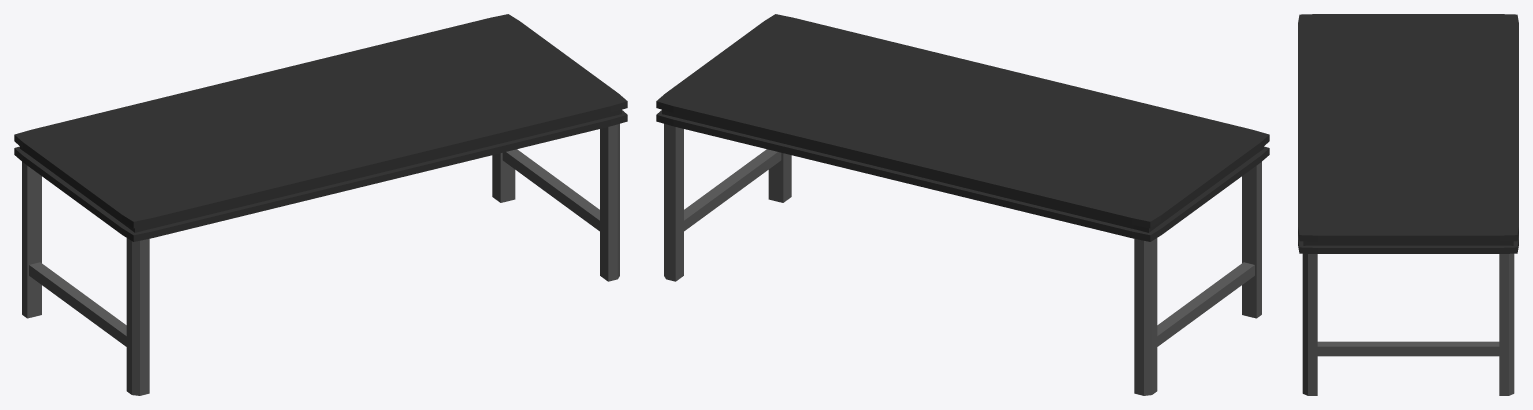
Rendered from table.fbx.
3 renders of one model, left to right at view 1: azimuth 30°, elevation 25°; view 2: azimuth 150°, elevation 25°; view 3: azimuth 270°, elevation 25°, orthographic. The views are drawn at different scales.
Parts seen in each view (by area): view 1: Cube; view 2: Cube; view 3: Cube.
Part boxes in pixels (x1,y1,x2,y2): Cube: (14, 14, 627, 395); Cube: (656, 14, 1269, 395); Cube: (1298, 14, 1518, 395).
Size of the model in its own units: 1103 by 377 by 464.
